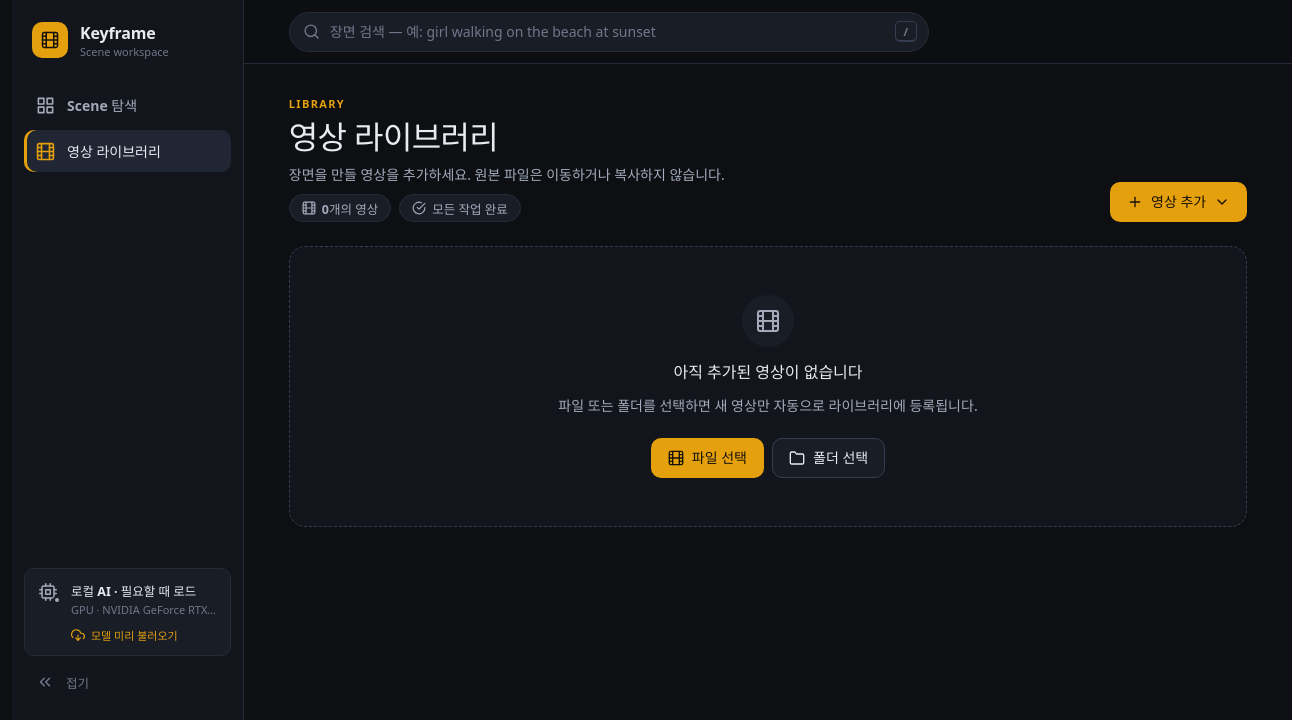
Test: 앱 레이아웃 › submits the global search to the Scene explorer and focuses it with /
Type keys "/"
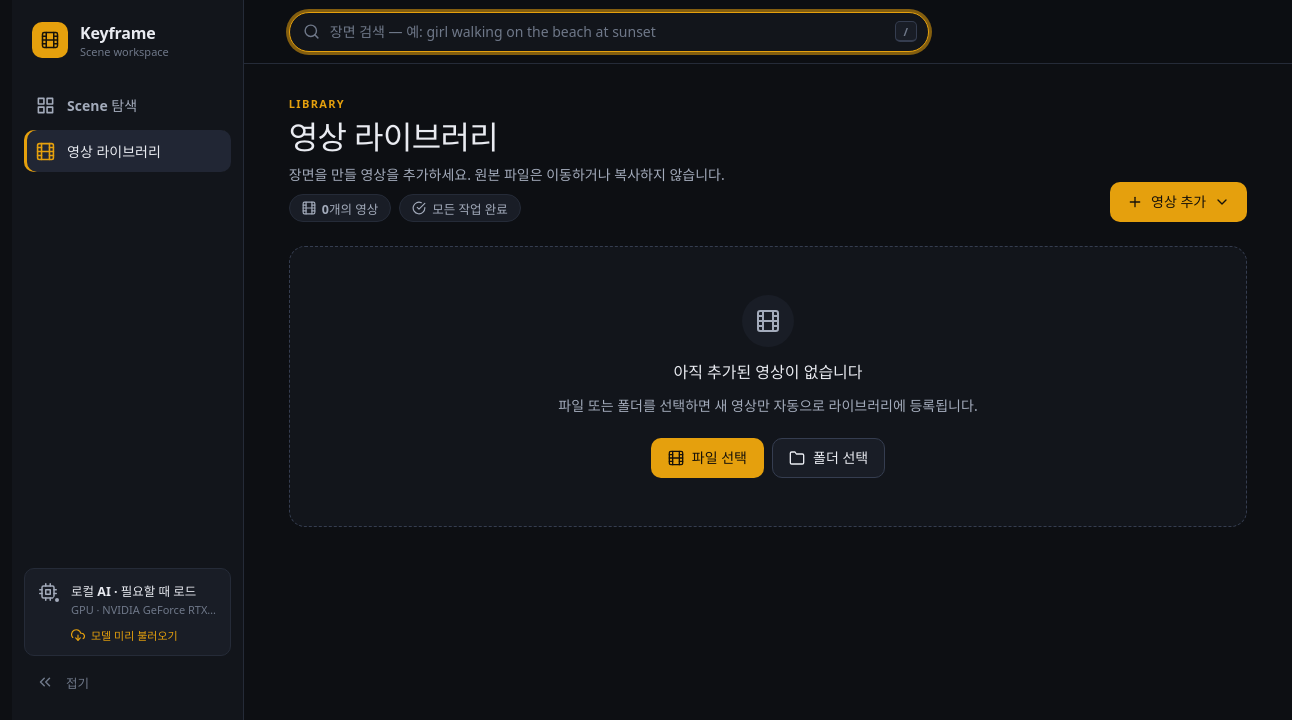
Type keys "sunset beach{Enter}"
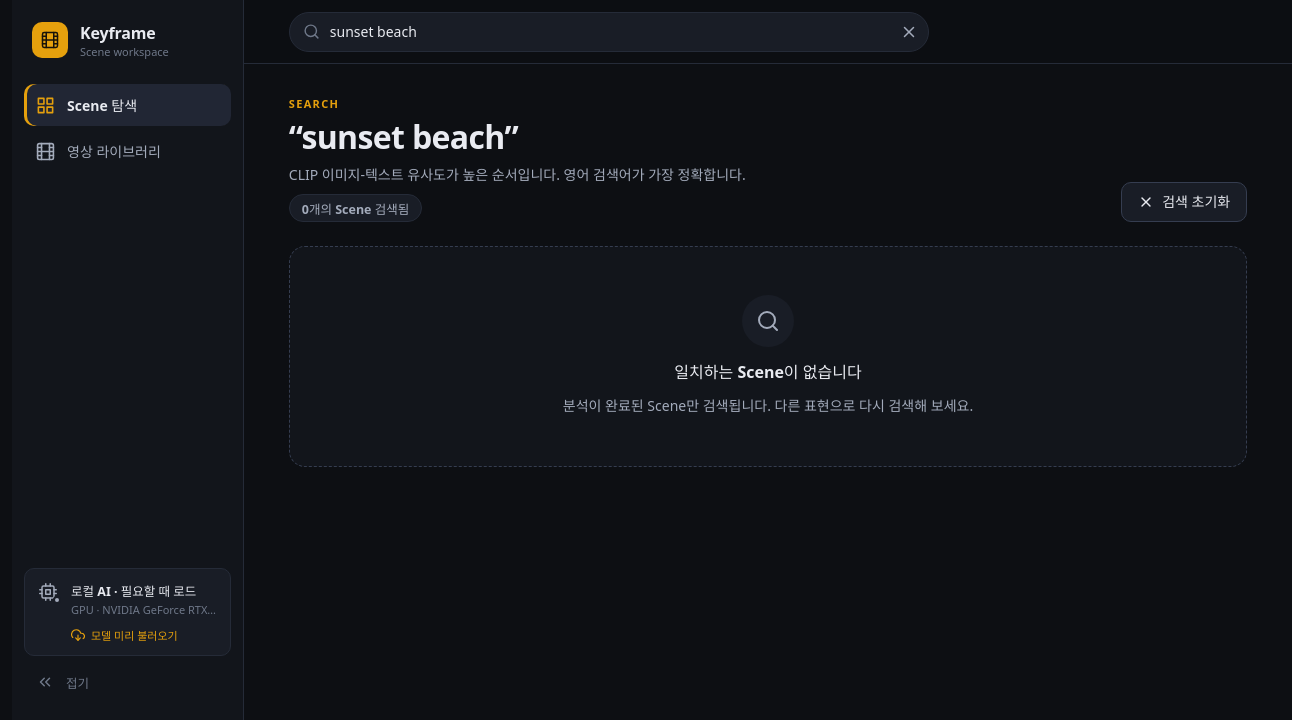
expect the search field named "Scene 검색" holds "sunset beach": met, box [289,12,929,52]
Click the button named "검색어 지우기" at [909, 32], box [893,16,925,48]
(page scrolled)
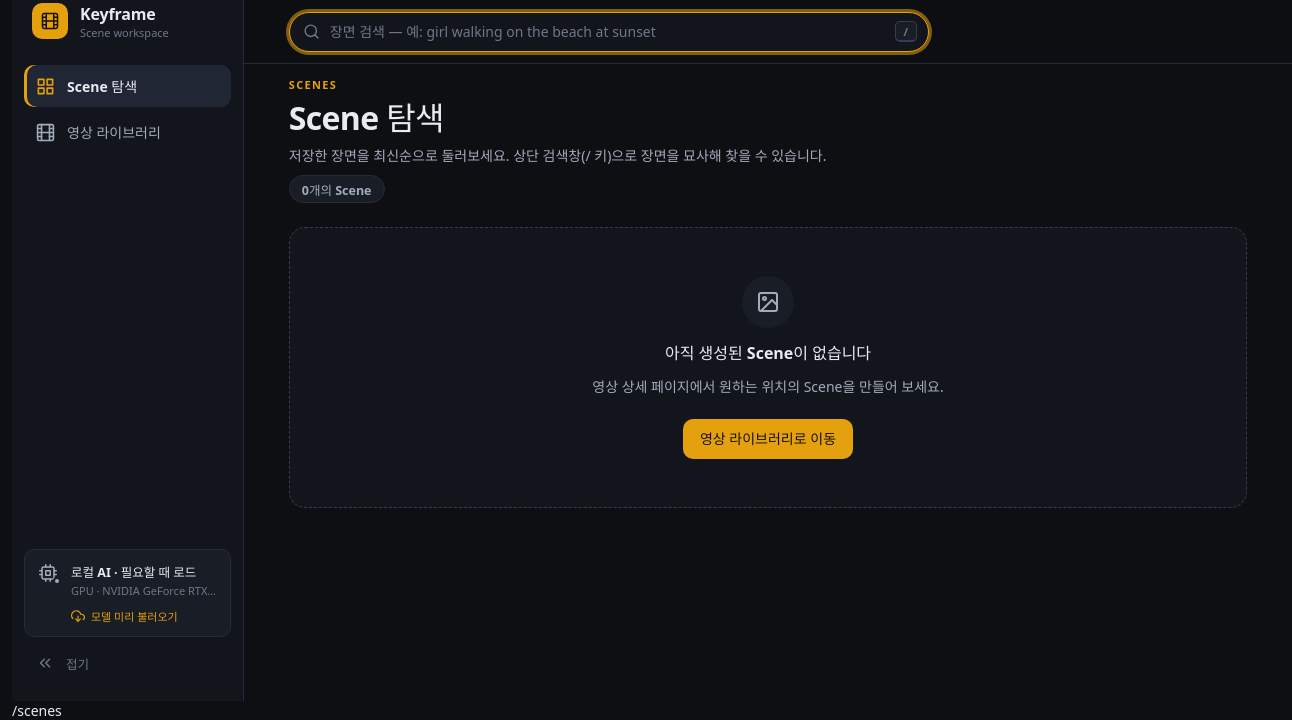
expect the text with test id "location" reads "/scenes": met, box [12,701,62,719]
